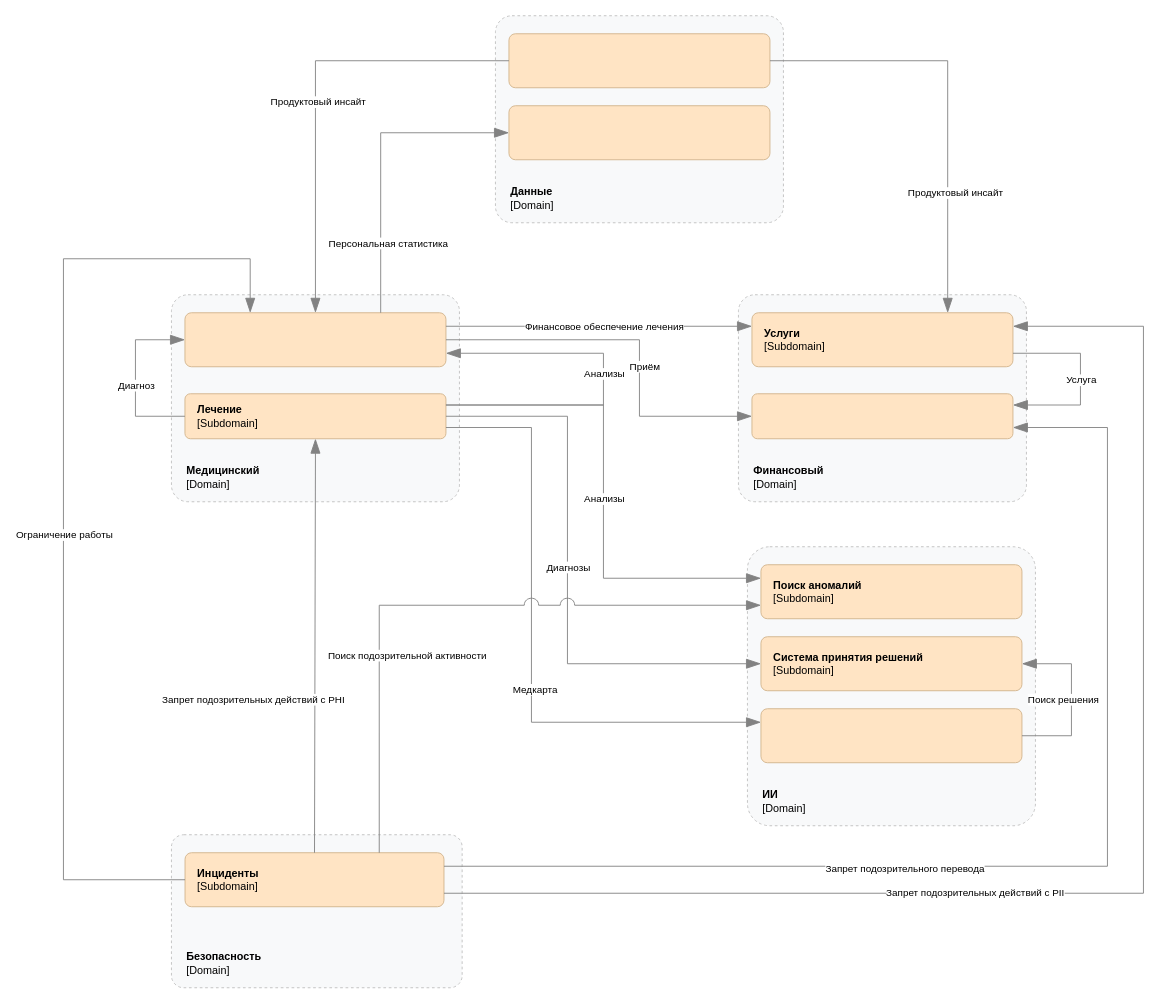
This 1174x1004 diagram has some shape labels left out. The centre of each missing label's shape, as x and y in pixels:
Ассистенты [Subdomain]: (x=891, y=735)
Оплата [Subdomain]: (x=882, y=416)
Организационный [Subdomain]: (x=315, y=339)
Персональная аналитика [Subdomain]: (x=639, y=132)
Продуктовая аналитика [Subdomain]: (x=639, y=60)
